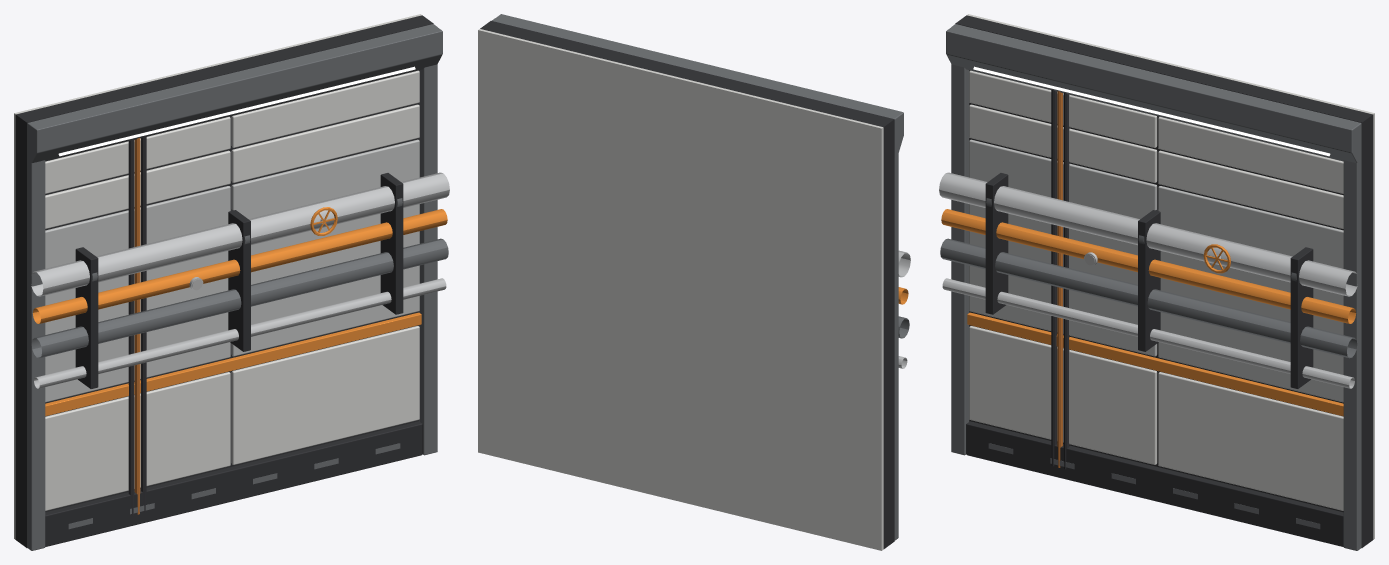
The model's file is kit_wall_pipes.glb.
3 views of the same model, side by side, from view 1: azimuth 30°, elevation 25°; view 2: azimuth 150°, elevation 25°; view 3: azimuth 330°, elevation 25° (orthographic).
Parts seen in each view (by area): view 1: kit_wall_pipes; view 2: kit_wall_pipes; view 3: kit_wall_pipes.
Boxes of the visible parts, x1,y1,x2,y2 form: kit_wall_pipes: (14,14,449,550); kit_wall_pipes: (478,14,910,550); kit_wall_pipes: (939,14,1374,550).
Bounding box in the file's own units: 4 × 4 × 0.533.
